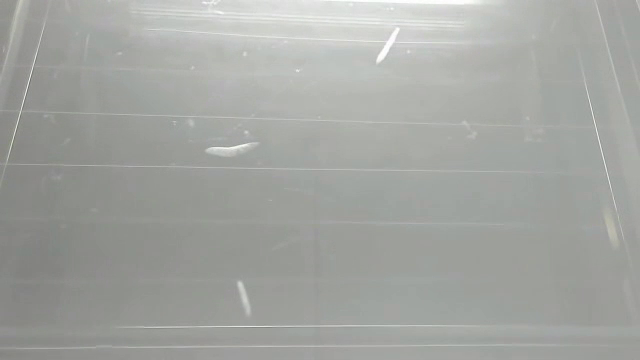alpha: (201, 139, 266, 159), (373, 26, 403, 65), (231, 277, 258, 320)
